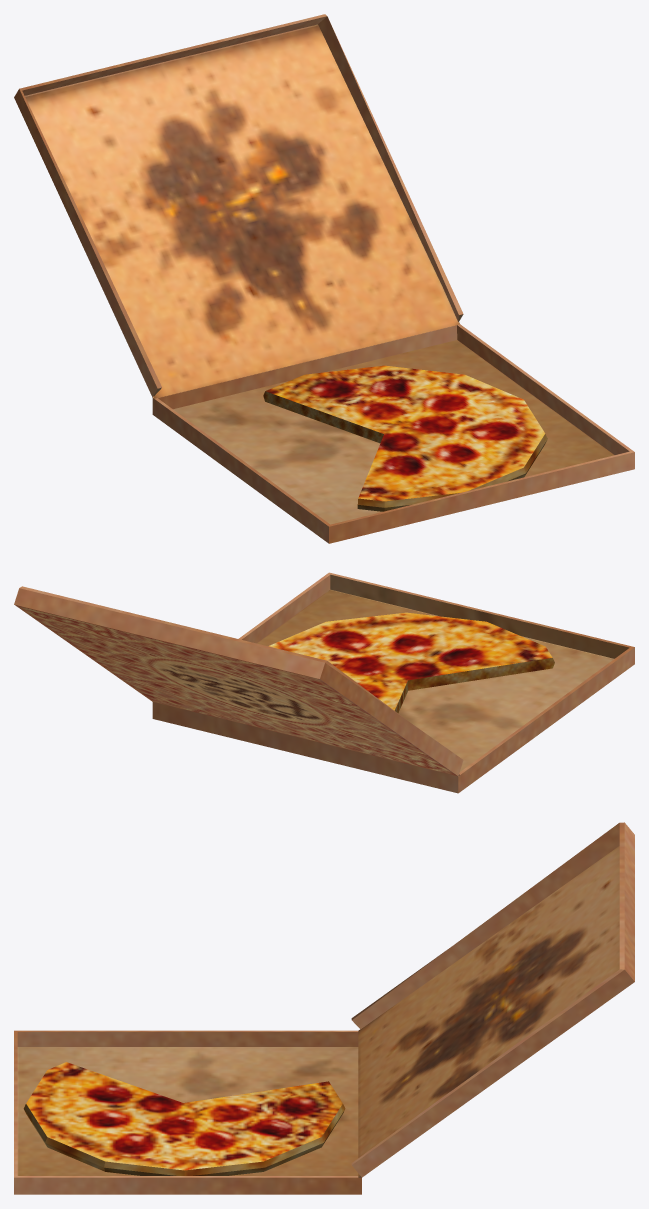
Rendered from pizza_quarter_eaten.obj.
3 renders of one model, top to bottom at view 1: azimuth 30°, elevation 25°; view 2: azimuth 150°, elevation 25°; view 3: azimuth 270°, elevation 25°, orthographic.
Parts seen in each view (by area): view 1: pizza_quarter_eaten; view 2: pizza_quarter_eaten; view 3: pizza_quarter_eaten.
Part boxes in pixels (x1,y1,x2,y2): pizza_quarter_eaten: (14, 14, 634, 543); pizza_quarter_eaten: (14, 572, 634, 793); pizza_quarter_eaten: (14, 822, 634, 1194).
Size of the model in its own units: 0.5276 by 0.3762 by 0.9413.
